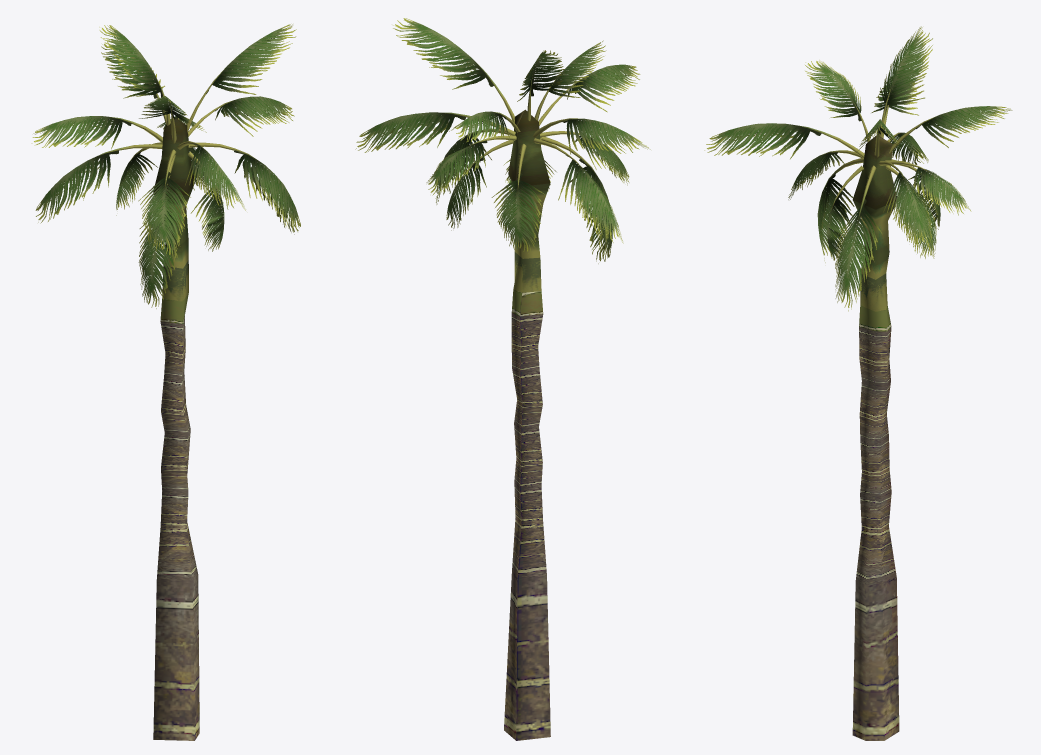
Rendered from flora_tree_palm_royal_v2.glb.
3 renders of one model, left to right at view 1: azimuth 30°, elevation 25°; view 2: azimuth 150°, elevation 25°; view 3: azimuth 270°, elevation 25°, orthographic. The views are drawn at different scales.
Visible parts, largest first — view 1: flora_tree_palm_royal_v2_part0; view 2: flora_tree_palm_royal_v2_part0; view 3: flora_tree_palm_royal_v2_part0.
Part boxes in pixels (x1,y1,x2,y2): flora_tree_palm_royal_v2_part0: [31, 24, 300, 740]; flora_tree_palm_royal_v2_part0: [355, 18, 650, 740]; flora_tree_palm_royal_v2_part0: [704, 26, 1012, 740].
Bounding box in the file's own units: 14.43 × 32.72 × 14.41.
Materials: 1 (1 with a texture image).
